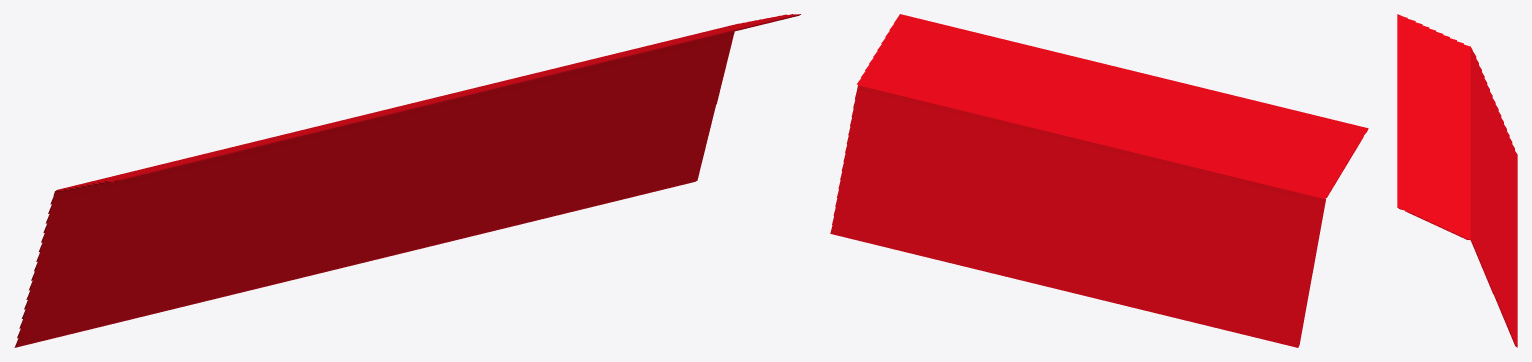
3 renders of one model, left to right at view 1: azimuth 30°, elevation 25°; view 2: azimuth 150°, elevation 25°; view 3: azimuth 270°, elevation 25°, orthographic. The views are drawn at different scales.
Parts seen in each view (by area): view 1: LeftWall.065; view 2: LeftWall.065; view 3: LeftWall.065.
Boxes of the visible parts, left/top/right/bottom form: LeftWall.065: left=14, top=14, right=800, bottom=347; LeftWall.065: left=830, top=14, right=1368, bottom=347; LeftWall.065: left=1397, top=14, right=1517, bottom=347.
Bounding box in the file's own units: 1066 × 363 × 281.
